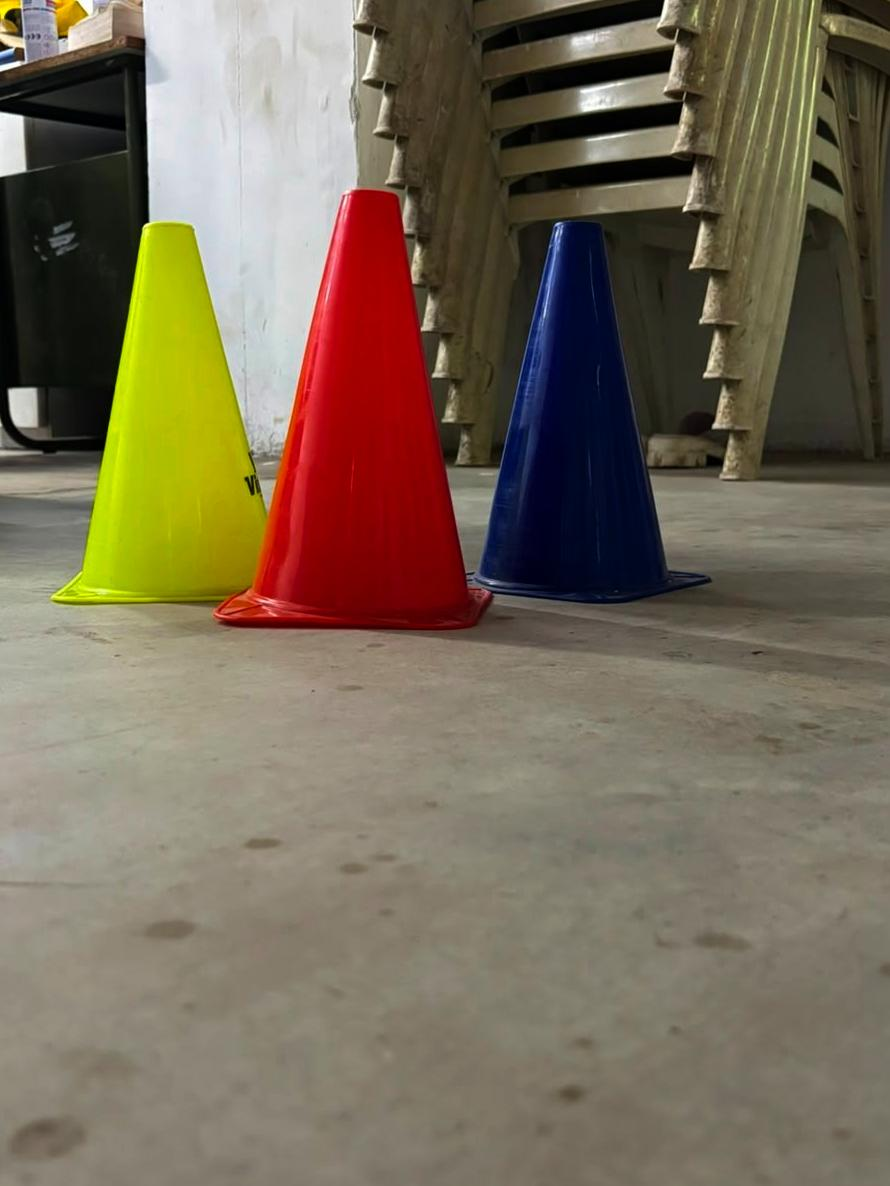0 cone: (215, 190, 708, 630), (40, 226, 280, 604)
